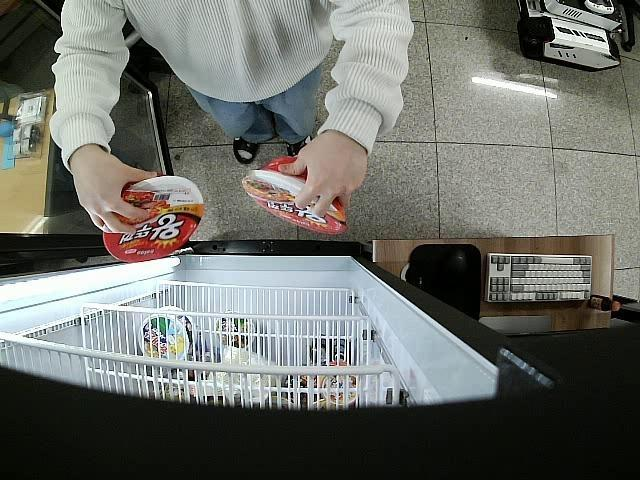10_wangTtukkeong: (102, 174, 205, 262), (241, 153, 345, 234)
